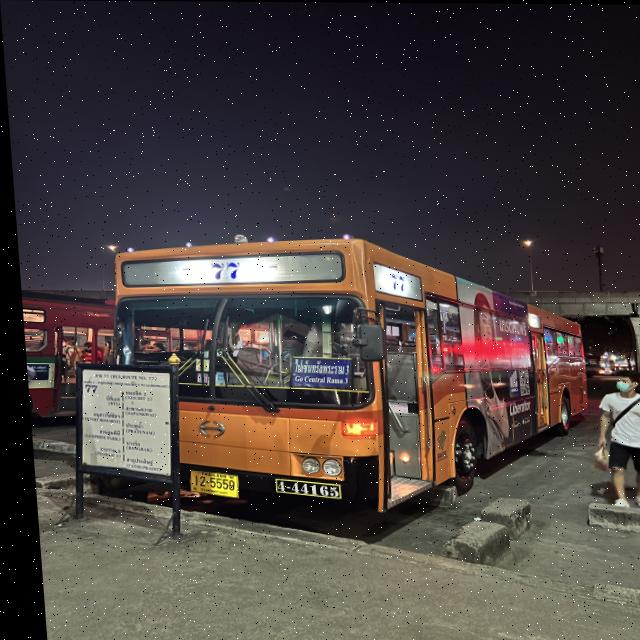BMTA-bus: (108, 237, 584, 515)
Bus Line Number: (187, 258, 255, 288)
Bus Side Number: (263, 476, 337, 498)
Destination Sign: (284, 357, 350, 388)
